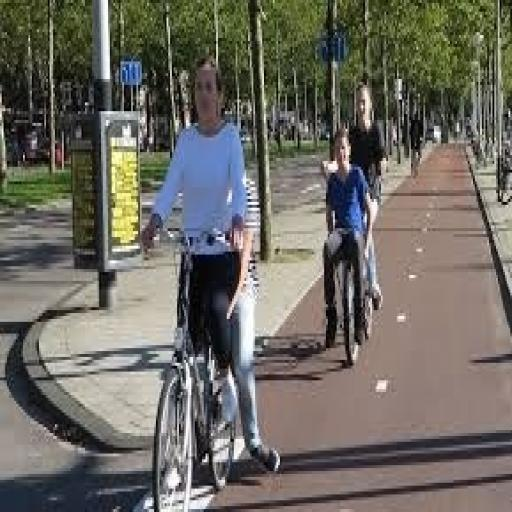cycling: (138, 52, 284, 486), (321, 126, 379, 354)
